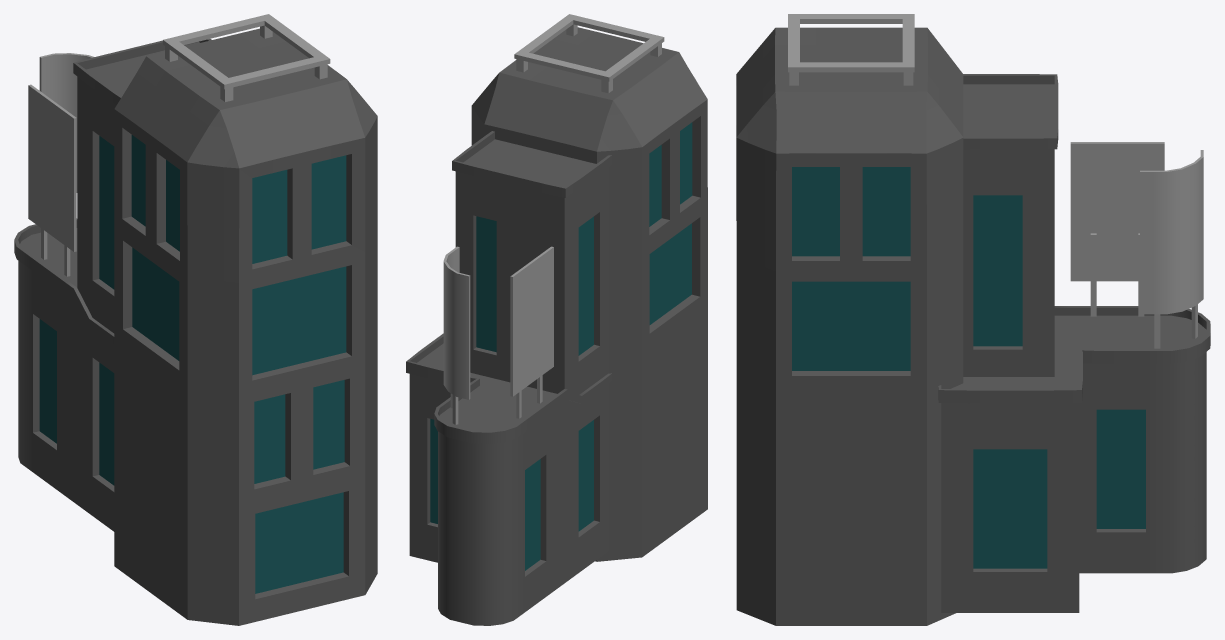
The model's file is building 8_jh_031725.fbx.
3 renders of one model, left to right at view 1: azimuth 30°, elevation 25°; view 2: azimuth 150°, elevation 25°; view 3: azimuth 270°, elevation 25°, orthographic. The views are drawn at different scales.
Parts seen in each view (by area): view 1: Cube.055, Cube.103, Cube.059, Cube.062, Cube.060, Cube.056, Cube.061; view 2: Cube.059, Cube.055, Cube.060, Cube.062, Cube.103, Cube.061, Cube.056; view 3: Cube.055, Cube.059, Cube.060, Cube.103, Cube.062, Cube.061, Cube.056.
Boxes of the visible parts, x1=… form: Cube.055: x1=114, y1=28, x2=377, y2=625; Cube.103: x1=131, y1=135, x2=346, y2=593; Cube.059: x1=14, y1=39, x2=211, y2=531; Cube.062: x1=28, y1=84, x2=76, y2=276; Cube.060: x1=39, y1=136, x2=114, y2=485; Cube.056: x1=163, y1=14, x2=330, y2=101; Cube.061: x1=39, y1=53, x2=93, y2=192; Cube.059: x1=406, y1=131, x2=611, y2=625; Cube.055: x1=471, y1=27, x2=707, y2=561; Cube.060: x1=430, y1=216, x2=593, y2=570; Cube.062: x1=510, y1=246, x2=553, y2=418; Cube.103: x1=649, y1=122, x2=692, y2=324; Cube.061: x1=443, y1=246, x2=470, y2=424; Cube.056: x1=514, y1=14, x2=664, y2=93; Cube.055: x1=736, y1=27, x2=963, y2=625; Cube.059: x1=938, y1=74, x2=1210, y2=612; Cube.060: x1=973, y1=195, x2=1145, y2=568; Cube.103: x1=792, y1=167, x2=910, y2=370; Cube.062: x1=1070, y1=142, x2=1164, y2=316; Cube.061: x1=1140, y1=150, x2=1203, y2=348; Cube.056: x1=788, y1=14, x2=914, y2=85.
Bounding box in the file's own units: 1492 × 3899 × 3117.
